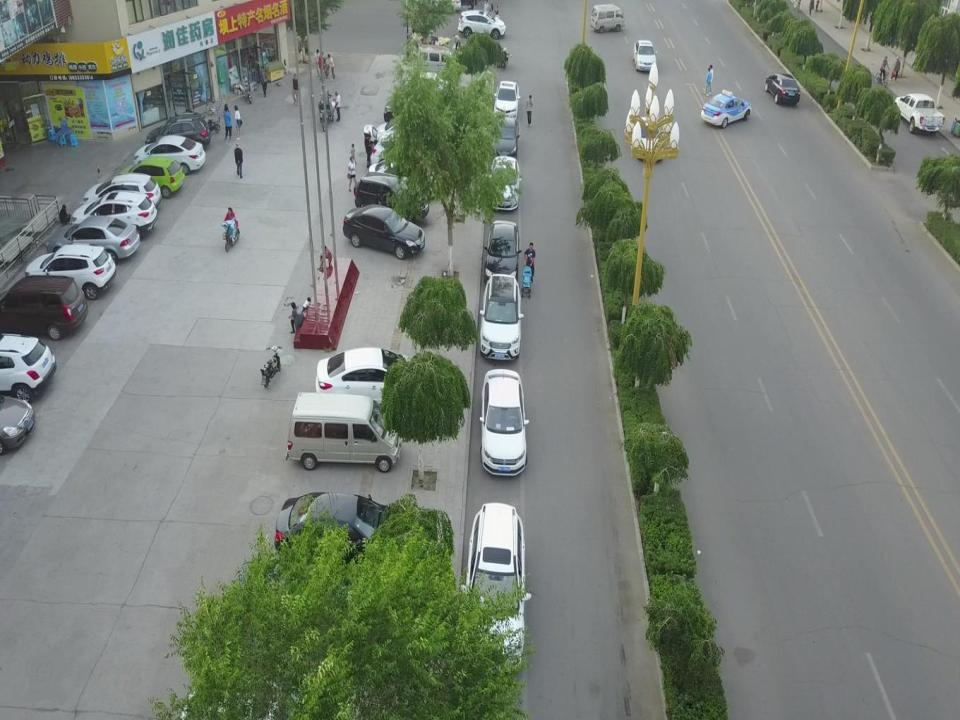car: (276, 490, 433, 572), (460, 501, 528, 672), (0, 273, 88, 340), (314, 347, 421, 399), (478, 369, 526, 477), (24, 243, 117, 298), (342, 202, 428, 258), (45, 222, 141, 266), (479, 274, 523, 360), (0, 332, 57, 398), (71, 191, 158, 234), (354, 173, 429, 218), (82, 171, 163, 209), (109, 157, 185, 196), (370, 136, 448, 174), (131, 135, 205, 175), (375, 116, 452, 153), (368, 155, 444, 192), (390, 72, 464, 108), (484, 218, 523, 286), (382, 96, 458, 129), (143, 116, 209, 152), (0, 392, 34, 452), (700, 90, 752, 126), (489, 154, 520, 213), (630, 111, 662, 163), (488, 116, 520, 163), (457, 9, 505, 38), (764, 70, 802, 106), (493, 79, 520, 124), (631, 38, 657, 70)
truck: (894, 91, 944, 131)
van: (285, 390, 404, 472), (413, 44, 464, 77), (590, 4, 627, 34)
